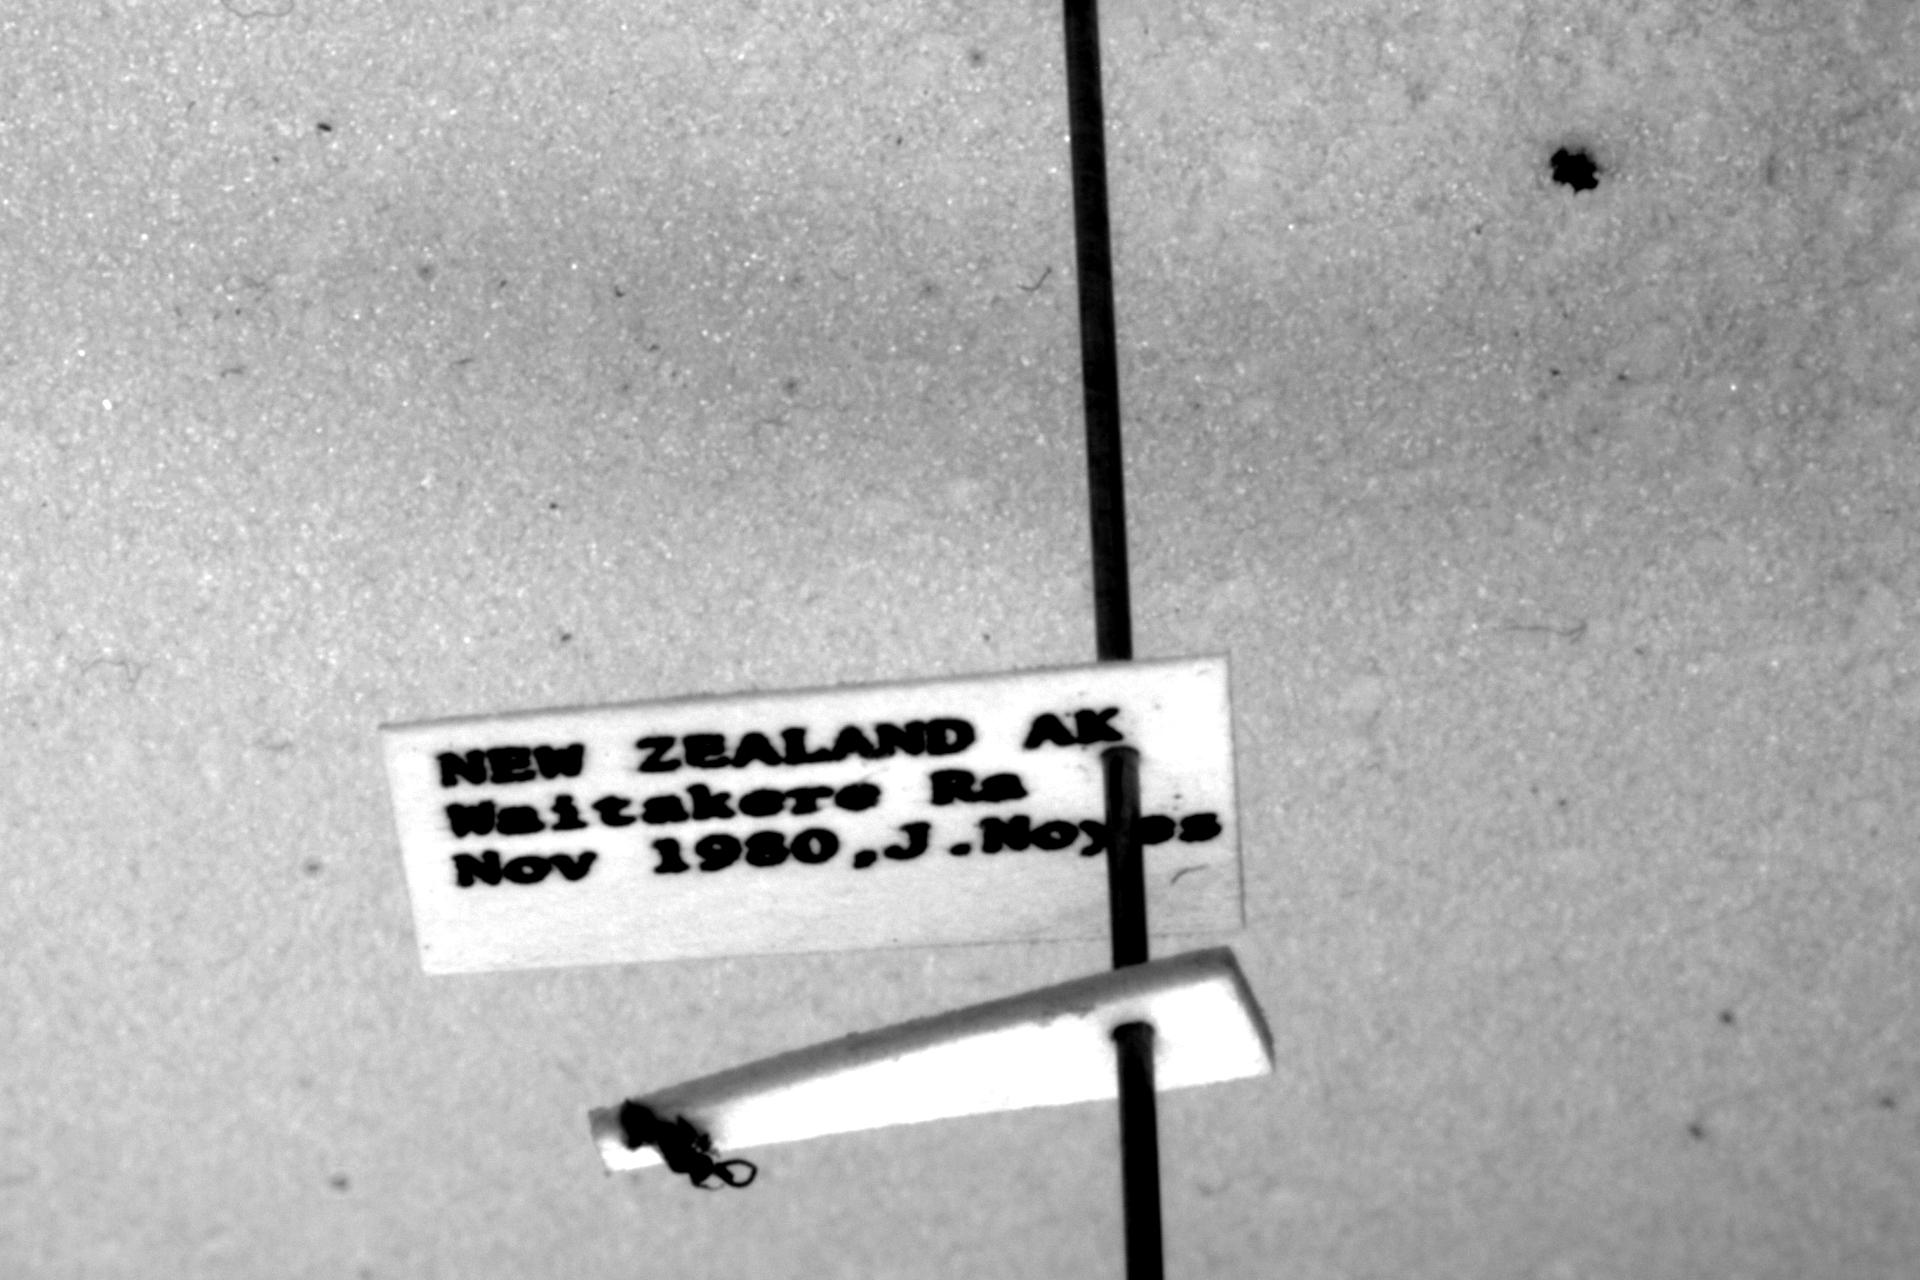typed_label: (383, 656, 1241, 974)
